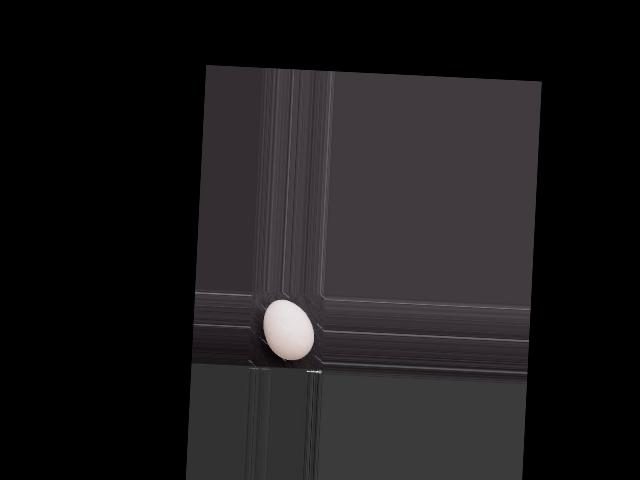egg: (261, 299, 315, 361)
